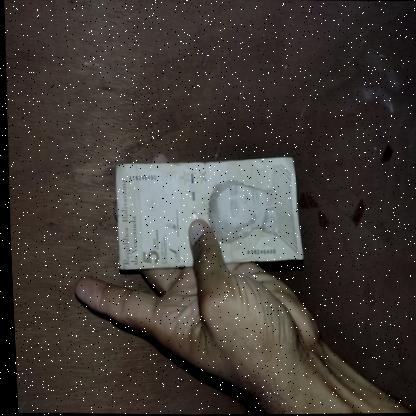five-front-vef: (111, 153, 303, 273)
